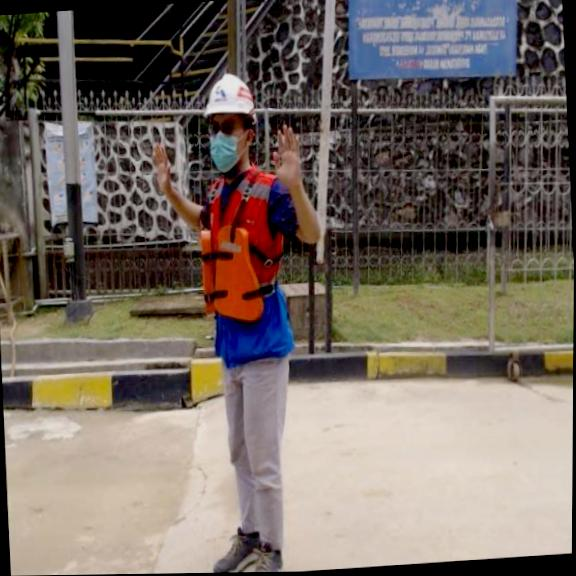safety_vest: (189, 211, 275, 324)
